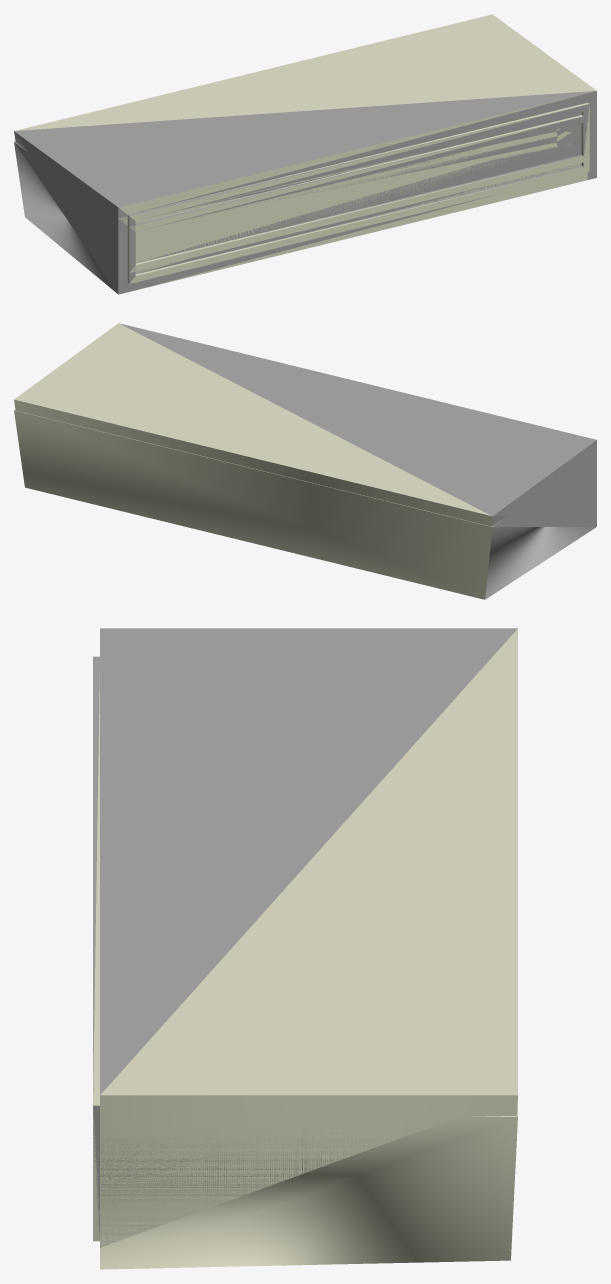
Rendered from original-128-top.obj.
The picture shows the model from 3 angles, top to bottom: view 1: azimuth 30°, elevation 25°; view 2: azimuth 150°, elevation 25°; view 3: azimuth 270°, elevation 25°; orthographic projection. The views are drawn at different scales.
Visible parts, largest first — view 1: mesh8/mesh8-geometry#mesh8-geometry.001; view 2: mesh8/mesh8-geometry#mesh8-geometry.001; view 3: mesh8/mesh8-geometry#mesh8-geometry.001.
Boxes of the visible parts, left/top/right/bottom form: mesh8/mesh8-geometry#mesh8-geometry.001: left=14, top=14, right=596, bottom=294; mesh8/mesh8-geometry#mesh8-geometry.001: left=14, top=323, right=596, bottom=599; mesh8/mesh8-geometry#mesh8-geometry.001: left=93, top=628, right=517, bottom=1269.
Bounding box in the file's own units: 1.39 × 0.242 × 0.5352.
